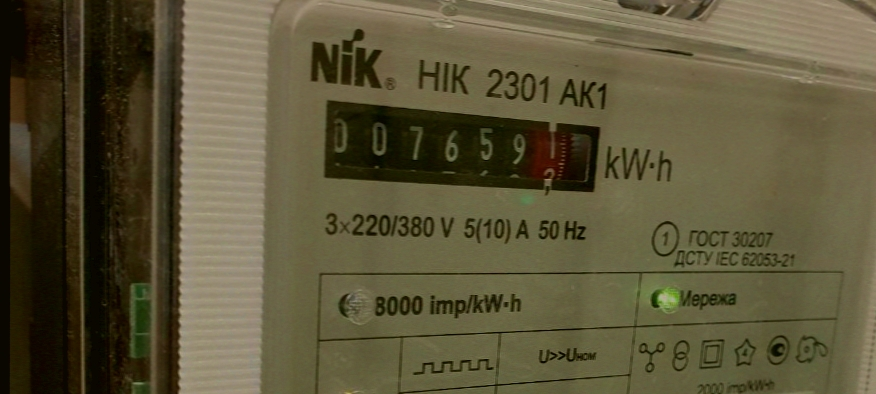0: (367, 115, 391, 156), (328, 112, 351, 153)
1: (544, 128, 561, 161)
5: (476, 122, 496, 160)
6: (441, 123, 462, 162)
7: (406, 120, 425, 160)
9: (510, 128, 527, 166)
screen: (315, 89, 608, 209)
